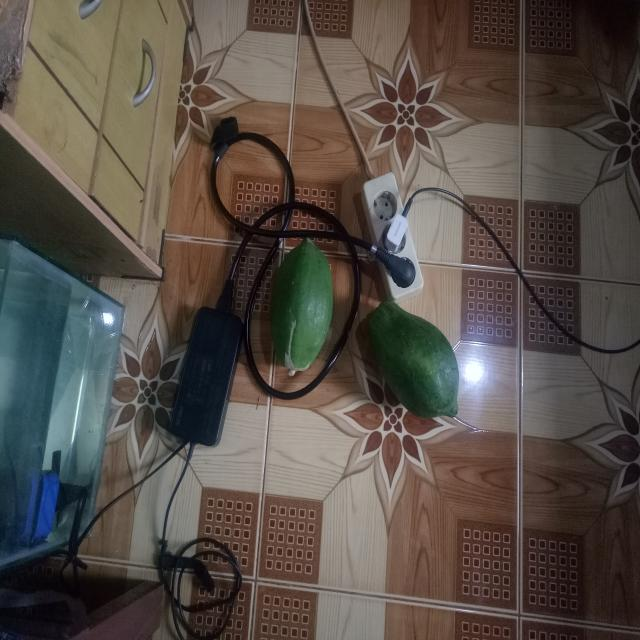Pepaya unrippen: (360, 294, 460, 421), (264, 240, 335, 390)
